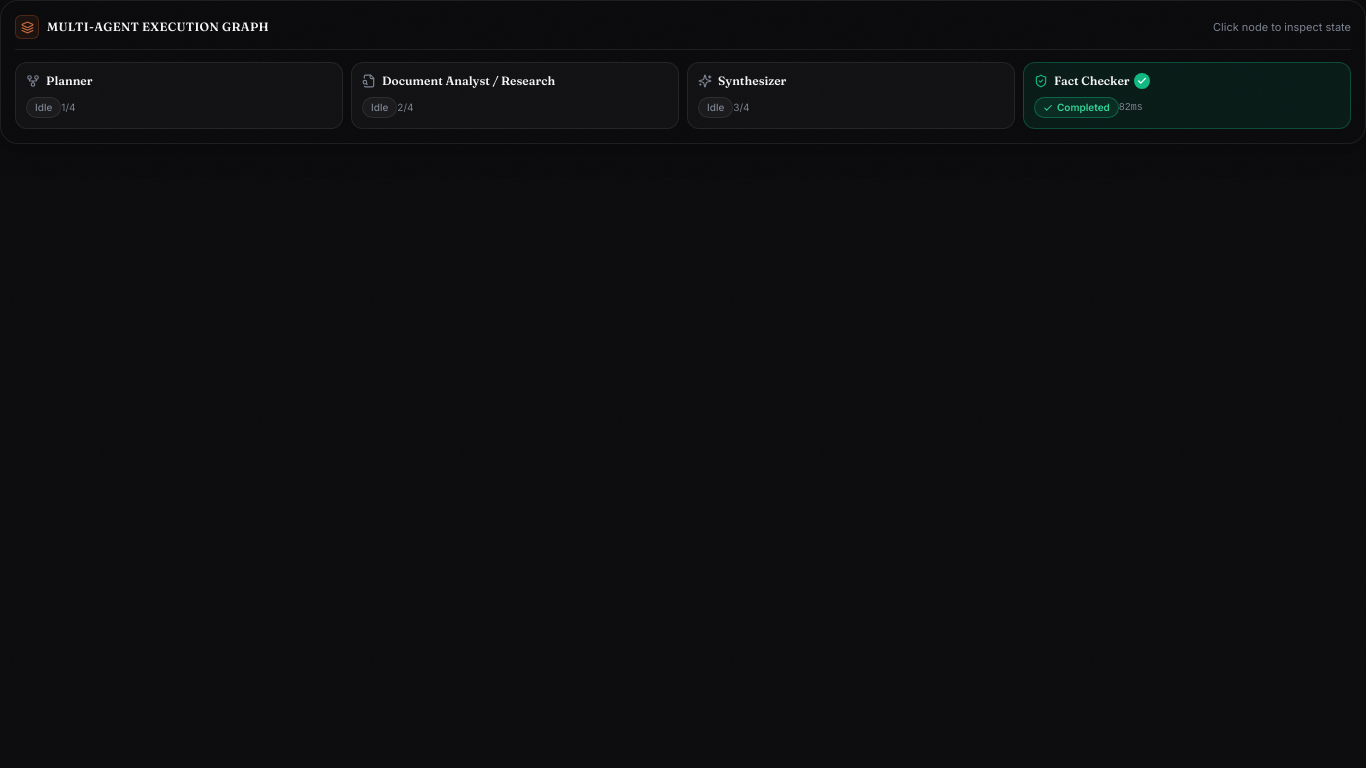
Scenario: AgentGraphVisualizer Component › opens state drawer on node click and renders intermediate state details
The width and height of the screenshot is (1366, 768).
Click the button with test id "graph-node-fact_checker" at coordinates (1092, 80), box x1=1023 y1=62 x2=1351 y2=129
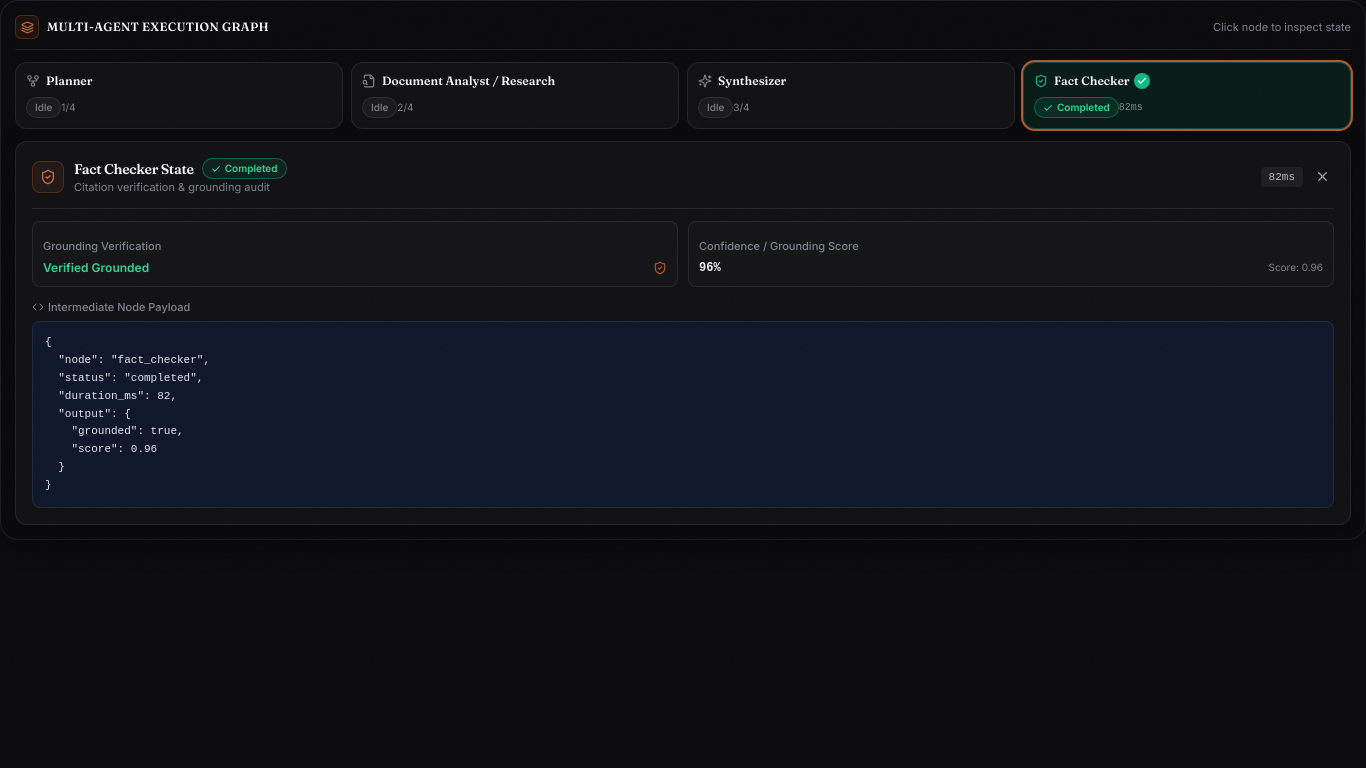
Now the element with test id "state-drawer" is shown, box x1=15 y1=141 x2=1351 y2=525
Now the heading "Fact Checker State" is shown, box x1=74 y1=158 x2=194 y2=178
Now the text with test id "state-drawer-duration" reads "82ms", box x1=1261 y1=166 x2=1303 y2=187
